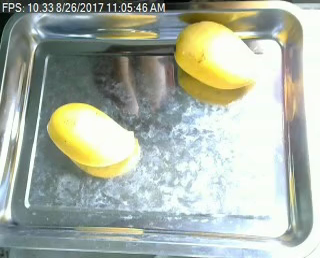Mango: (41, 98, 142, 168), (170, 14, 262, 90)
